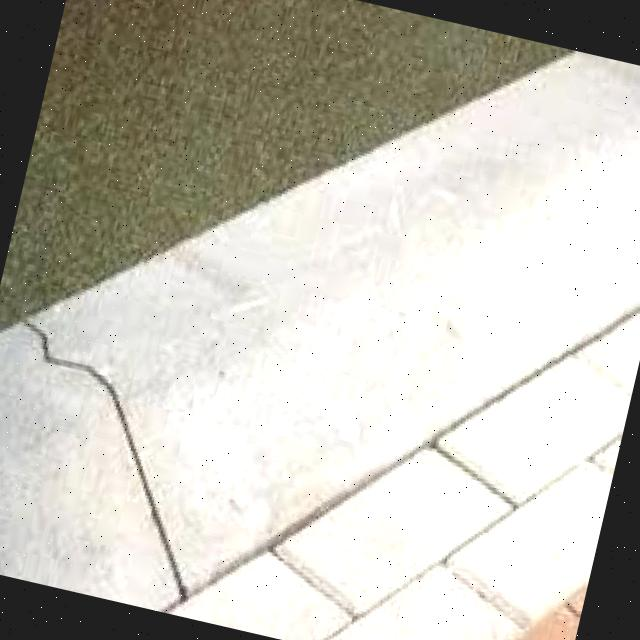curb: (1, 55, 640, 611)
